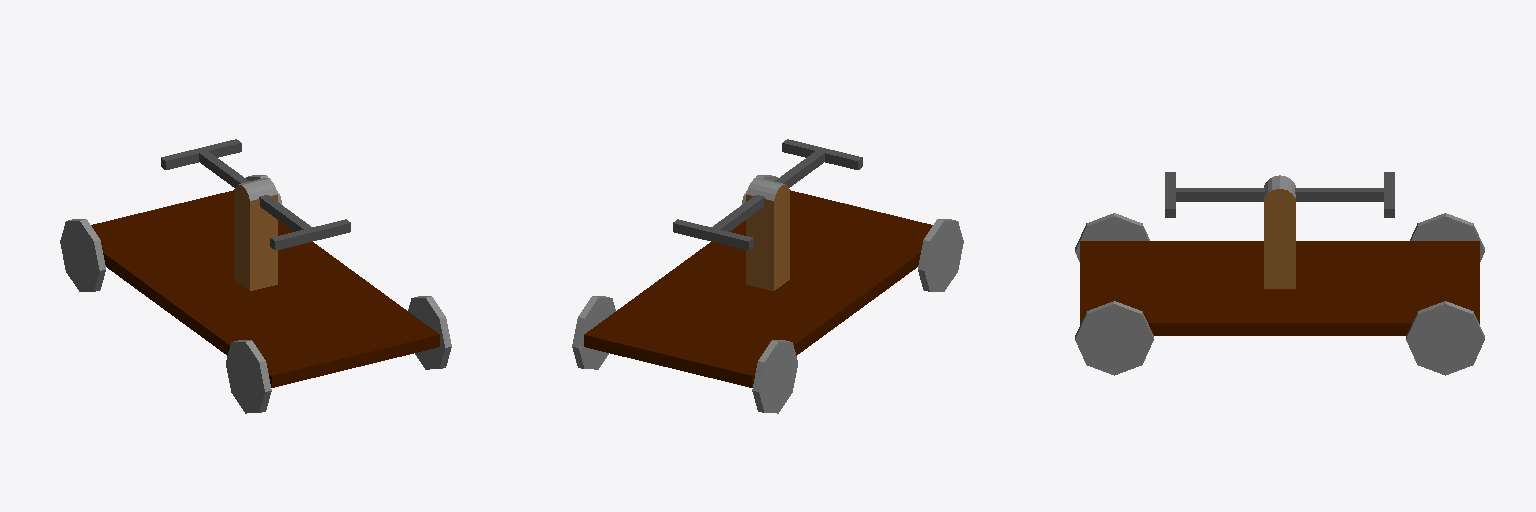
The picture shows the model from 3 angles: view 1: azimuth 30°, elevation 25°; view 2: azimuth 150°, elevation 25°; view 3: azimuth 270°, elevation 25°; orthographic projection.
Visible parts, largest first — view 1: Cube.002; view 2: Cube.002; view 3: Cube.002.
Part boxes in pixels (bbox=[...]): Cube.002: bbox=[60, 139, 451, 413]; Cube.002: bbox=[572, 139, 963, 413]; Cube.002: bbox=[1075, 172, 1484, 375].
Size of the model in its own units: 3.89 by 2.95 by 7.39.
Materials: 1 (1 with a texture image).